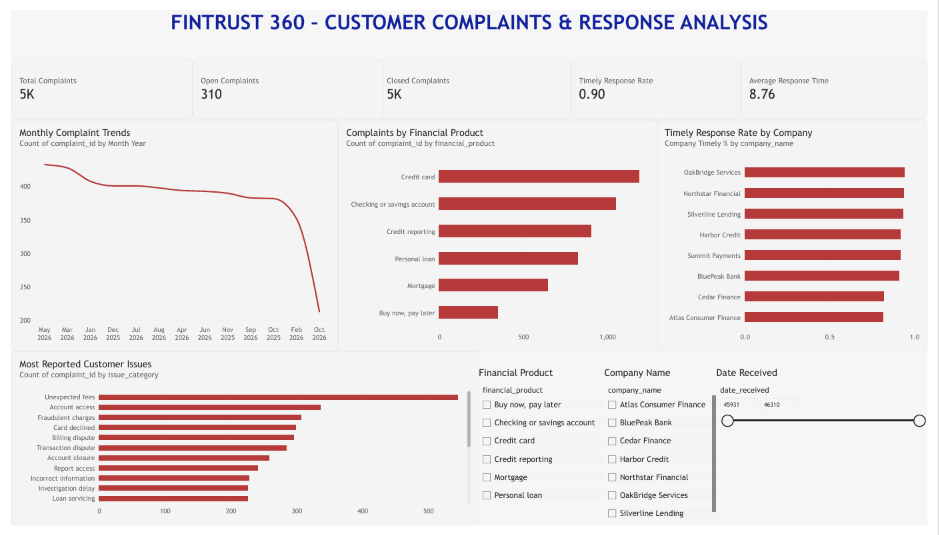

The page's visual inventory and layout, read from the dashboard file:
{"tool":"powerbi","page":{"name":"Page 1","canvas":[1920,1080],"ordinal":0},"visuals":[{"type":"cardVisual","fields":{"Data":["Cleaned_Data.Total Complaints"]},"box":[0,103.3,380,126.7],"z":0},{"type":"cardVisual","fields":{"Data":["Cleaned_Data.Closed Complaints"]},"box":[770,103.3,403.3,126.7],"z":1000},{"type":"cardVisual","fields":{"Data":["Cleaned_Data.Timely Response Rate"]},"box":[1173.3,103.3,356.7,126.7],"z":2000},{"type":"cardVisual","fields":{"Data":["Cleaned_Data.Average Response Time"]},"box":[1530,103.3,390,126.7],"z":3000},{"type":"cardVisual","fields":{"Data":["Cleaned_Data.Open Complaints"]},"box":[380,103.3,400,126.7],"z":4000},{"type":"lineChart","title":"Monthly Complaint Trends","fields":{"Category":["Cleaned_Data.Month Year"],"Y":["CountNonNull(Cleaned_Data.complaint_id)"]},"box":[0,230,685,485],"z":5000},{"type":"clusteredBarChart","title":"Most Reported Customer Issues","fields":{"Category":["Cleaned_Data.issue_category"],"Y":["CountNonNull(Cleaned_Data.complaint_id)"]},"box":[0,715,980,365],"z":6000},{"type":"clusteredBarChart","title":"Timely Response Rate by Company","fields":{"Category":["Cleaned_Data.company_name"],"Y":["Cleaned_Data.Company Timely %"]},"box":[1352.5,230,567.5,485],"z":7000},{"type":"slicer","title":"Date Received","fields":{"Values":["Cleaned_Data.date_received"]},"box":[1477.5,747.5,442.5,332.5],"z":8000},{"type":"slicer","title":"Company Name","fields":{"Values":["Cleaned_Data.company_name"]},"box":[1242.5,747.5,235,332.5],"z":9000},{"type":"slicer","title":"Financial Product","fields":{"Values":["Cleaned_Data.financial_product"]},"box":[980,747.5,262.5,332.5],"z":10000},{"type":"textbox","box":[0,0,1920,66.7],"z":11000},{"type":"clusteredBarChart","title":"Complaints by Financial Product","fields":{"Category":["Cleaned_Data.financial_product"],"Y":["CountNonNull(Cleaned_Data.complaint_id)"]},"box":[685,230,670,485],"z":12000}]}

Visuals, with their boxes in screenshot pixels (x1, y1, x2, y2), scaled from the page's 1920x1080 canvas onto the 939x535 screenshot:
cardVisual - Cleaned_Data.Total Complaints: (left=0, top=51, right=186, bottom=114)
cardVisual - Cleaned_Data.Closed Complaints: (left=377, top=51, right=574, bottom=114)
cardVisual - Cleaned_Data.Timely Response Rate: (left=574, top=51, right=748, bottom=114)
cardVisual - Cleaned_Data.Average Response Time: (left=748, top=51, right=938, bottom=114)
cardVisual - Cleaned_Data.Open Complaints: (left=186, top=51, right=381, bottom=114)
"Monthly Complaint Trends" lineChart: (left=0, top=114, right=335, bottom=354)
"Most Reported Customer Issues" clusteredBarChart: (left=0, top=354, right=479, bottom=534)
"Timely Response Rate by Company" clusteredBarChart: (left=661, top=114, right=938, bottom=354)
"Date Received" slicer: (left=723, top=370, right=938, bottom=534)
"Company Name" slicer: (left=608, top=370, right=723, bottom=534)
"Financial Product" slicer: (left=479, top=370, right=608, bottom=534)
textbox: (left=0, top=0, right=938, bottom=33)
"Complaints by Financial Product" clusteredBarChart: (left=335, top=114, right=663, bottom=354)
